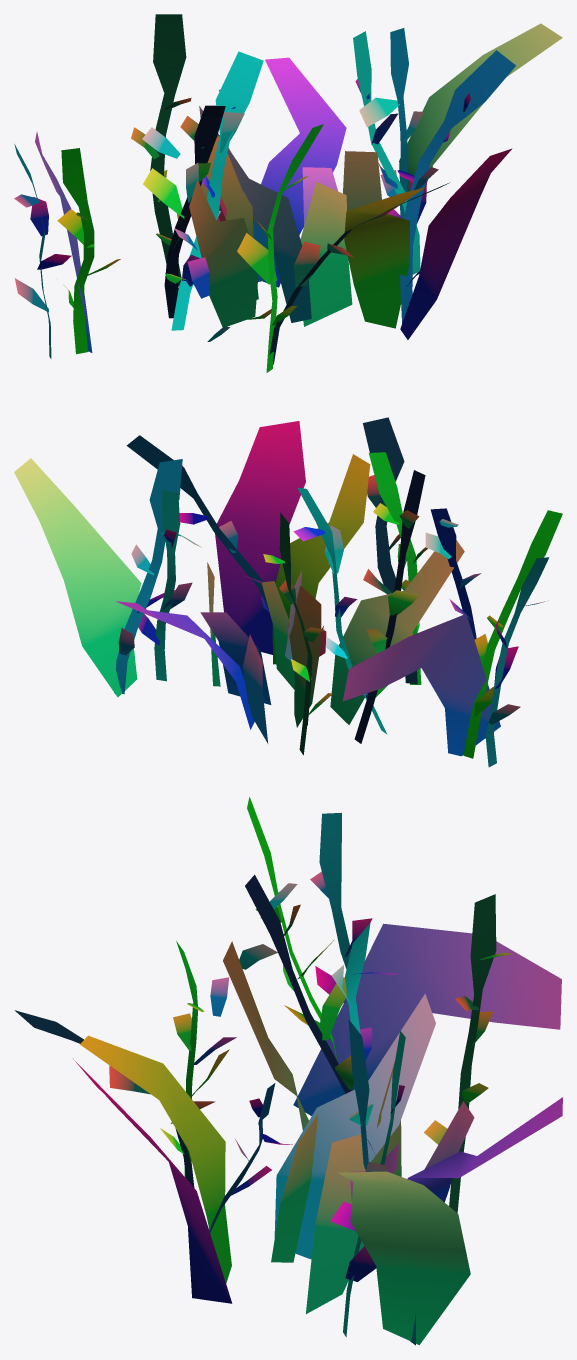
The model's file is matted_pratia_d.fbx.
The picture shows the model from 3 angles, top to bottom: view 1: azimuth 30°, elevation 25°; view 2: azimuth 150°, elevation 25°; view 3: azimuth 270°, elevation 25°; orthographic projection. The views are drawn at different scales.
Visible parts, largest first — view 1: _abc8_VarD_LOD1; view 2: _abc8_VarD_LOD1; view 3: _abc8_VarD_LOD1.
Boxes of the visible parts, x1,y1,x2,y2 form: _abc8_VarD_LOD1: (14, 14, 562, 372); _abc8_VarD_LOD1: (14, 417, 562, 767); _abc8_VarD_LOD1: (14, 797, 562, 1345).
Size of the model in its own units: 16.59 by 7.75 by 11.62.
